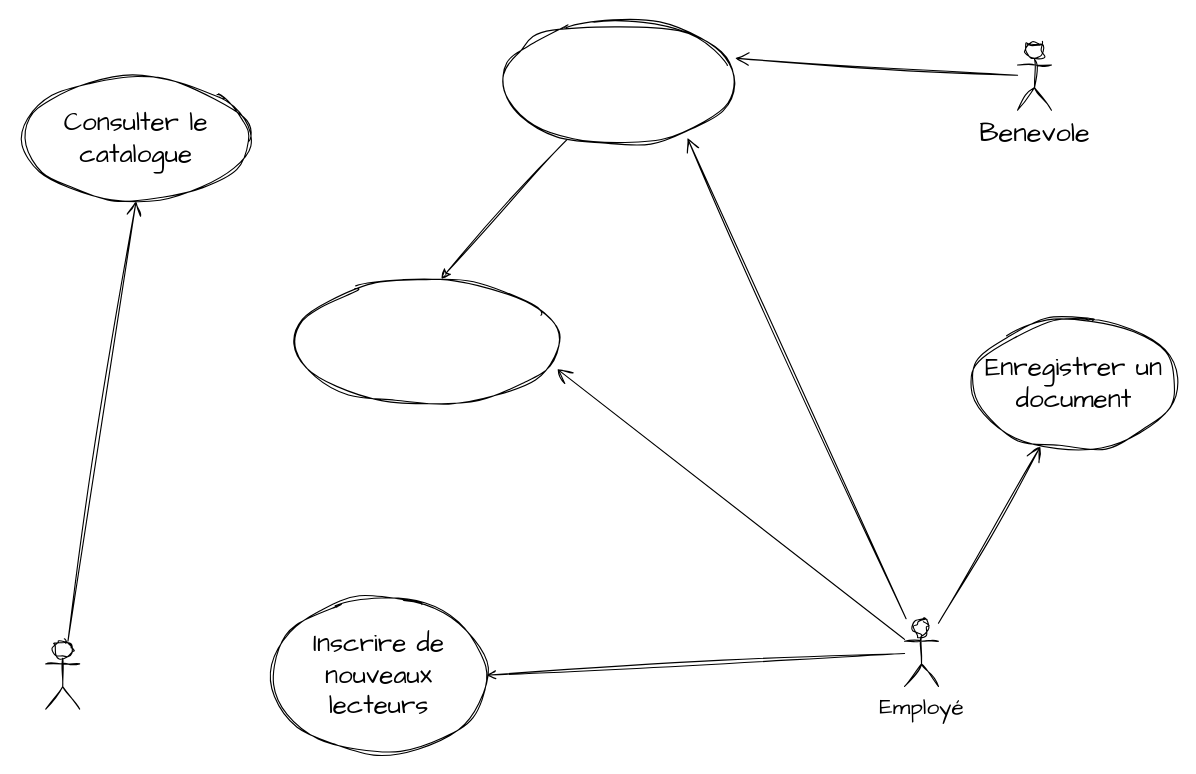
Some shapes in this 1196 by 774 pixel diagram are drawn without their labels. The shapes that lost their labels are listed below. From the top down, each one's centre as x and y in pixels, then its label:
the point at 618,81: Enregistrer un emprunt
the point at 426,341: Consulter l'état des lecteurs
the point at 62,674: Lecteur
